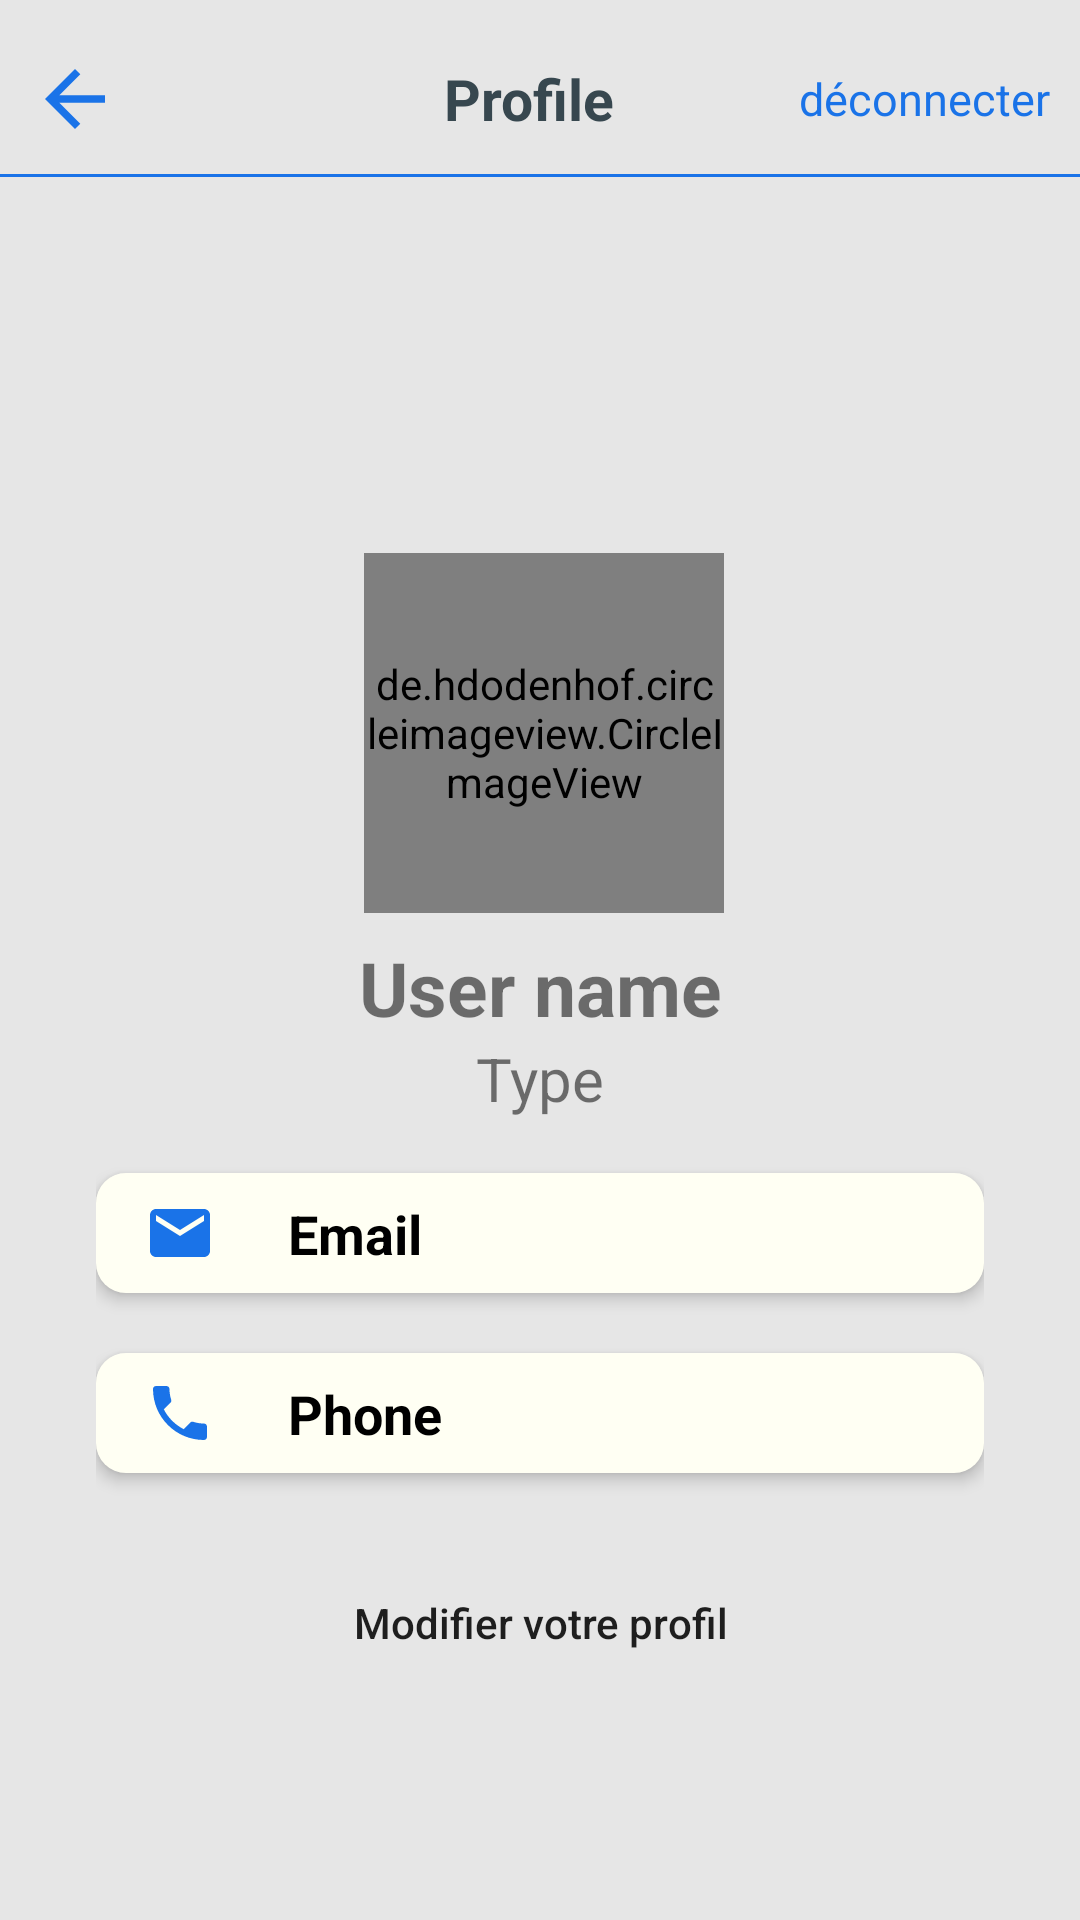

Locate icon controls on the screen. Image size 1080px x 1920px, boxes as (x1, y1, x2, y2).
arrow back: (45, 69, 105, 129)
